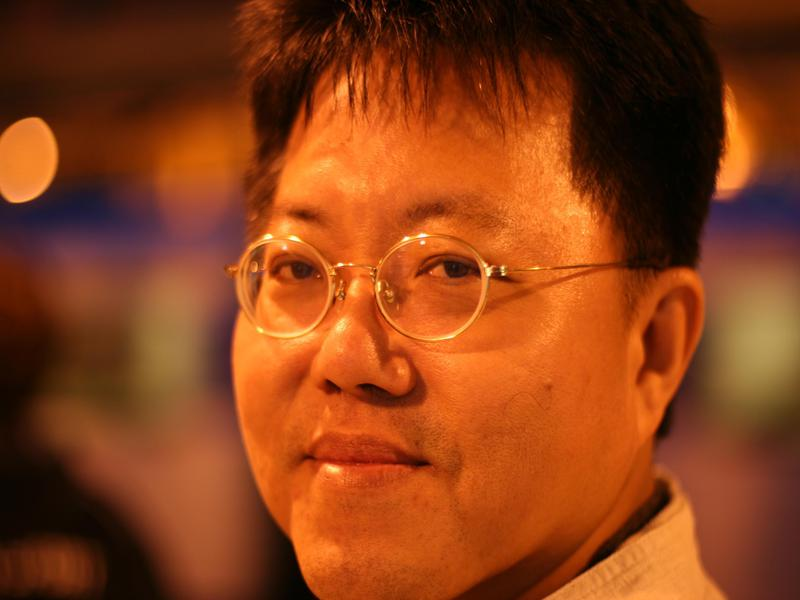person: (229, 2, 726, 599)
